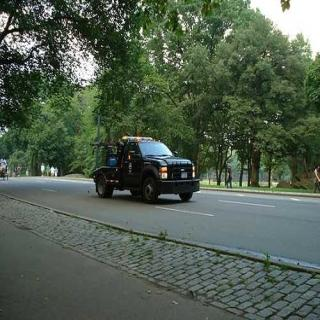Towing_truck: (90, 134, 201, 204)
